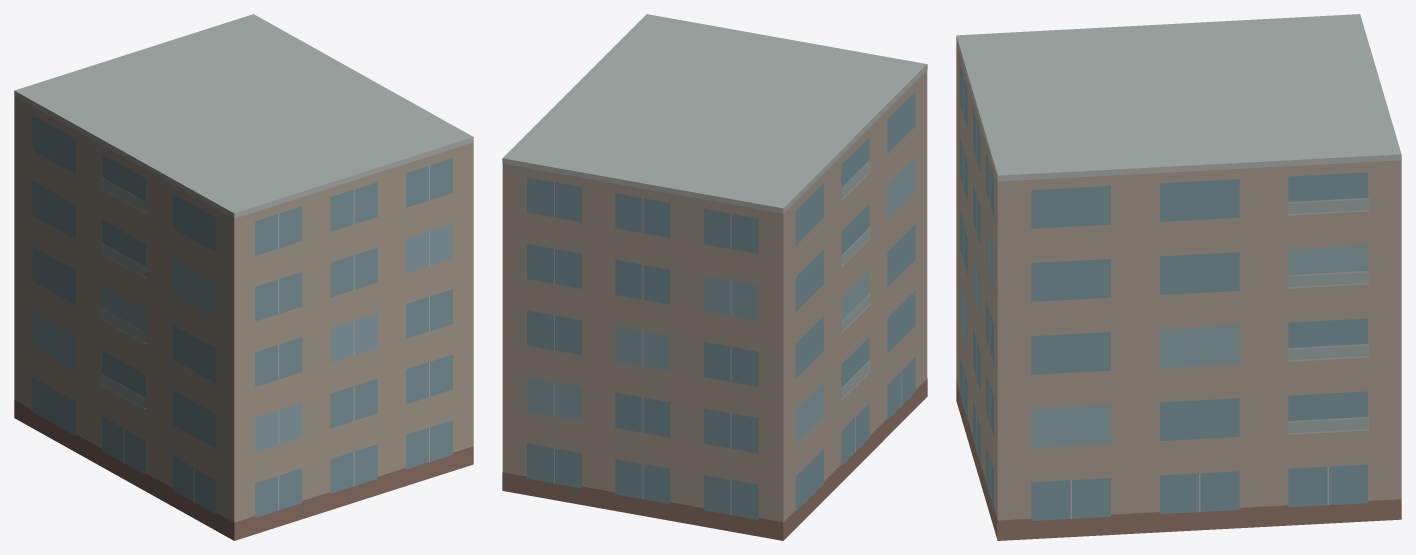
The model's file is survey-upis-32906679.glb.
3 views of the same model, side by side, from view 1: azimuth 30°, elevation 25°; view 2: azimuth 150°, elevation 25°; view 3: azimuth 270°, elevation 25° (orthographic). The views are drawn at different scales.
Parts seen in each view (by area): view 1: survey-upis-32906679.tmp; view 2: survey-upis-32906679.tmp; view 3: survey-upis-32906679.tmp.
Part boxes in pixels (x1=…): survey-upis-32906679.tmp: x1=14, y1=14, x2=473, y2=540; survey-upis-32906679.tmp: x1=502, y1=14, x2=927, y2=540; survey-upis-32906679.tmp: x1=956, y1=14, x2=1401, y2=540.
Size of the model in its own units: 14.44 by 15.2 by 16.81.
